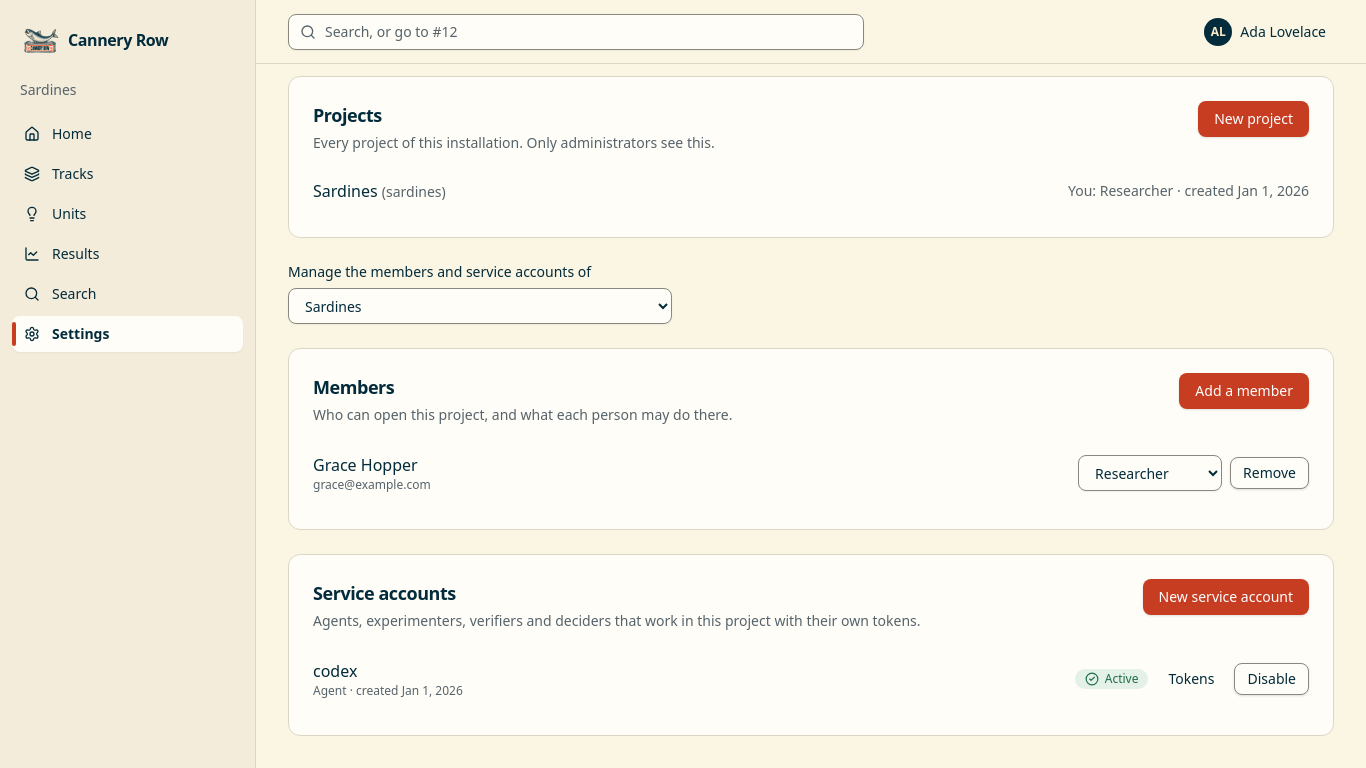
Test: a new token's secret › never stays in the query client, for a service account's token
(page scrolled)
Click the button "Tokens".
click(1192, 679)  # box [1156,663,1226,695]
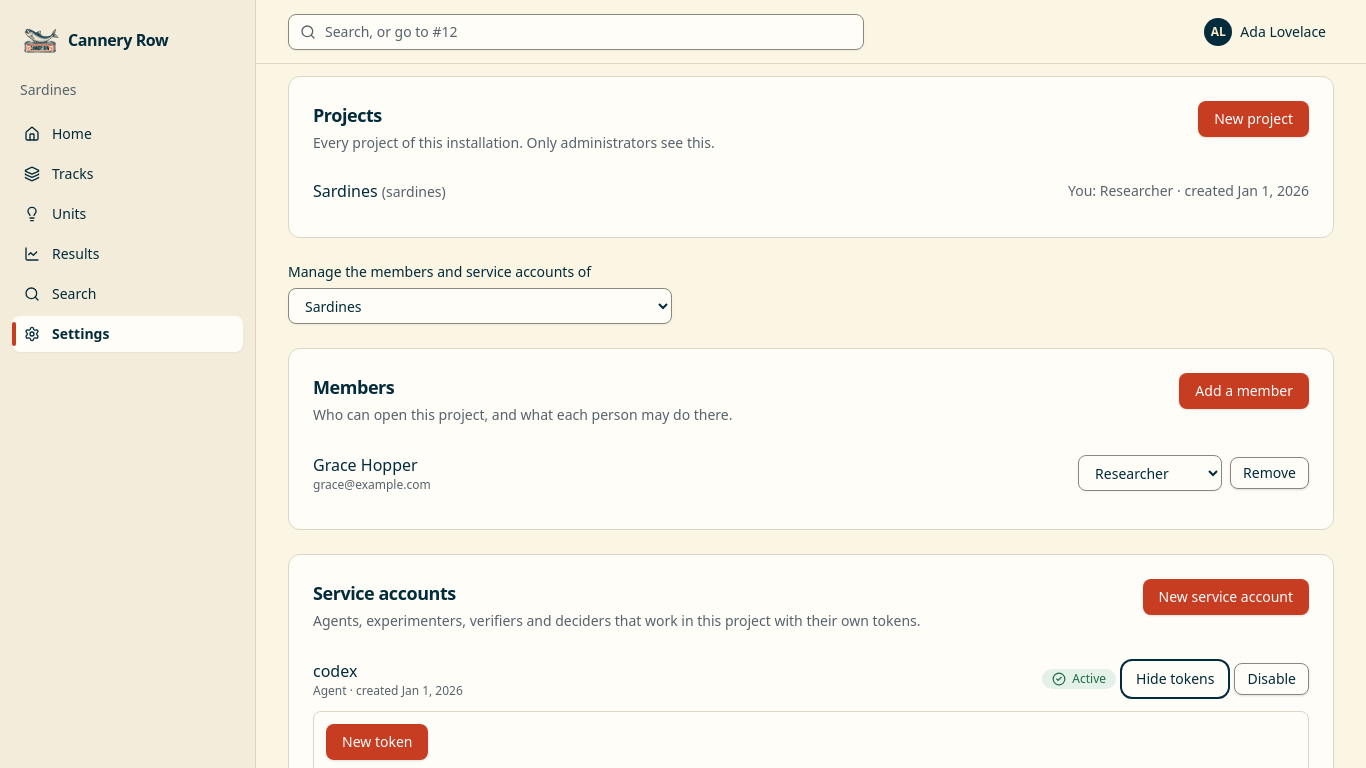
Click the button "New token".
click(377, 742)  # box [326,724,428,760]
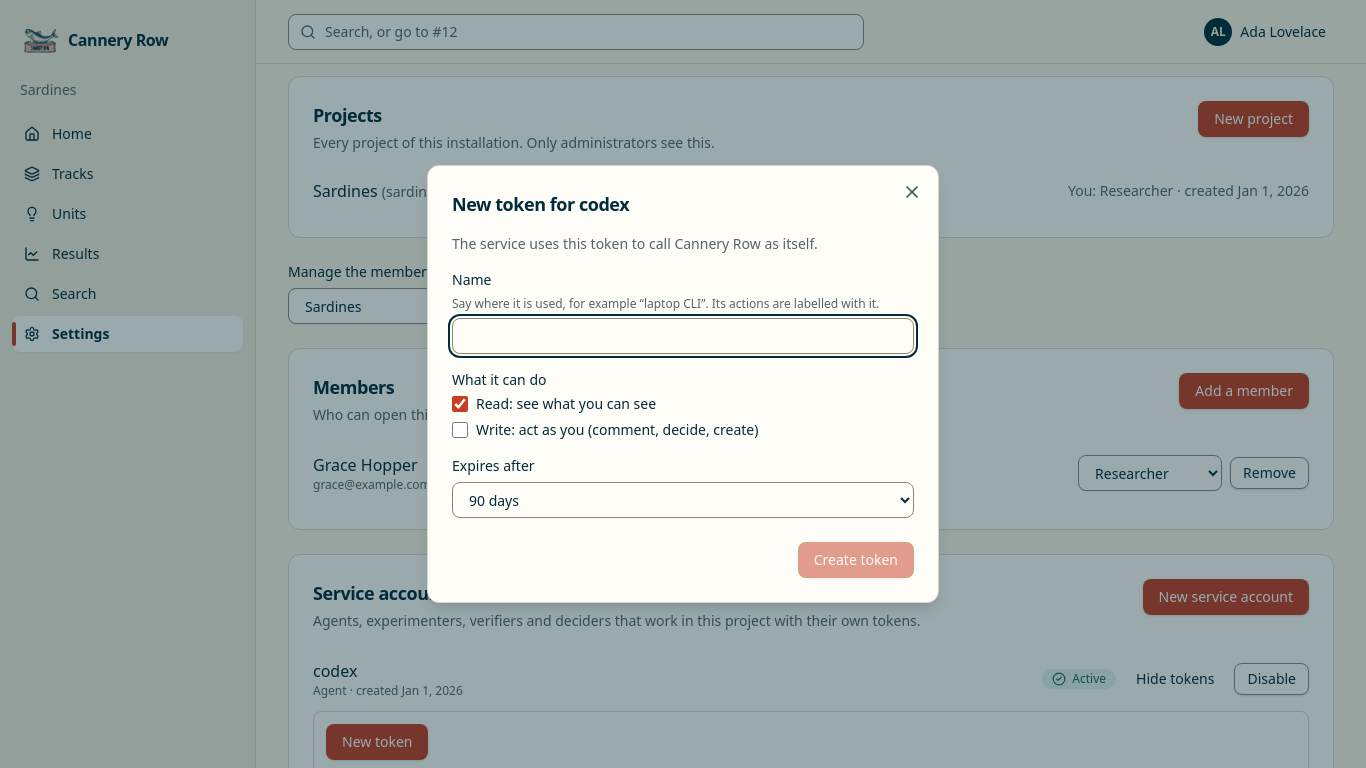
Type "runner" into the field labelled "Name".
click(683, 336); type("runner")  # box [452,318,914,354]
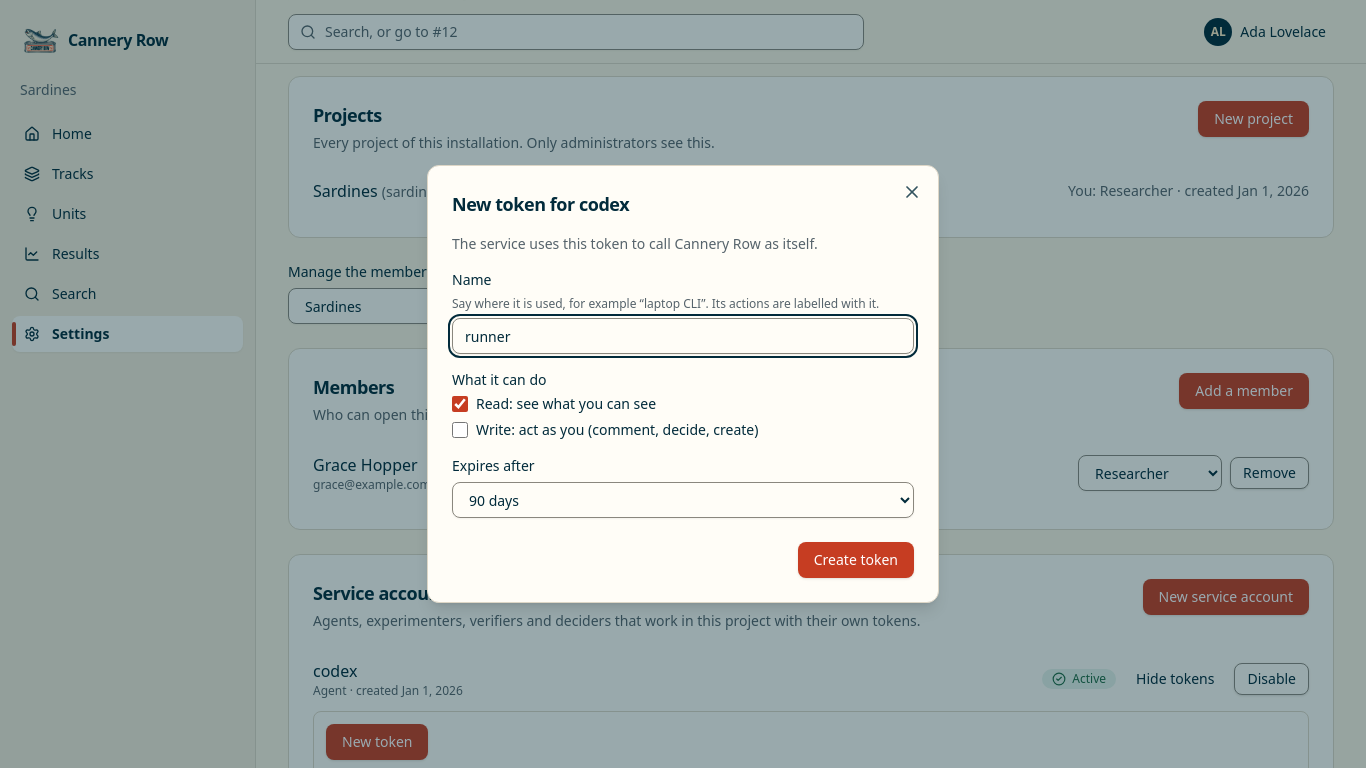
Click the button "Create token".
click(856, 560)  # box [798,542,914,578]
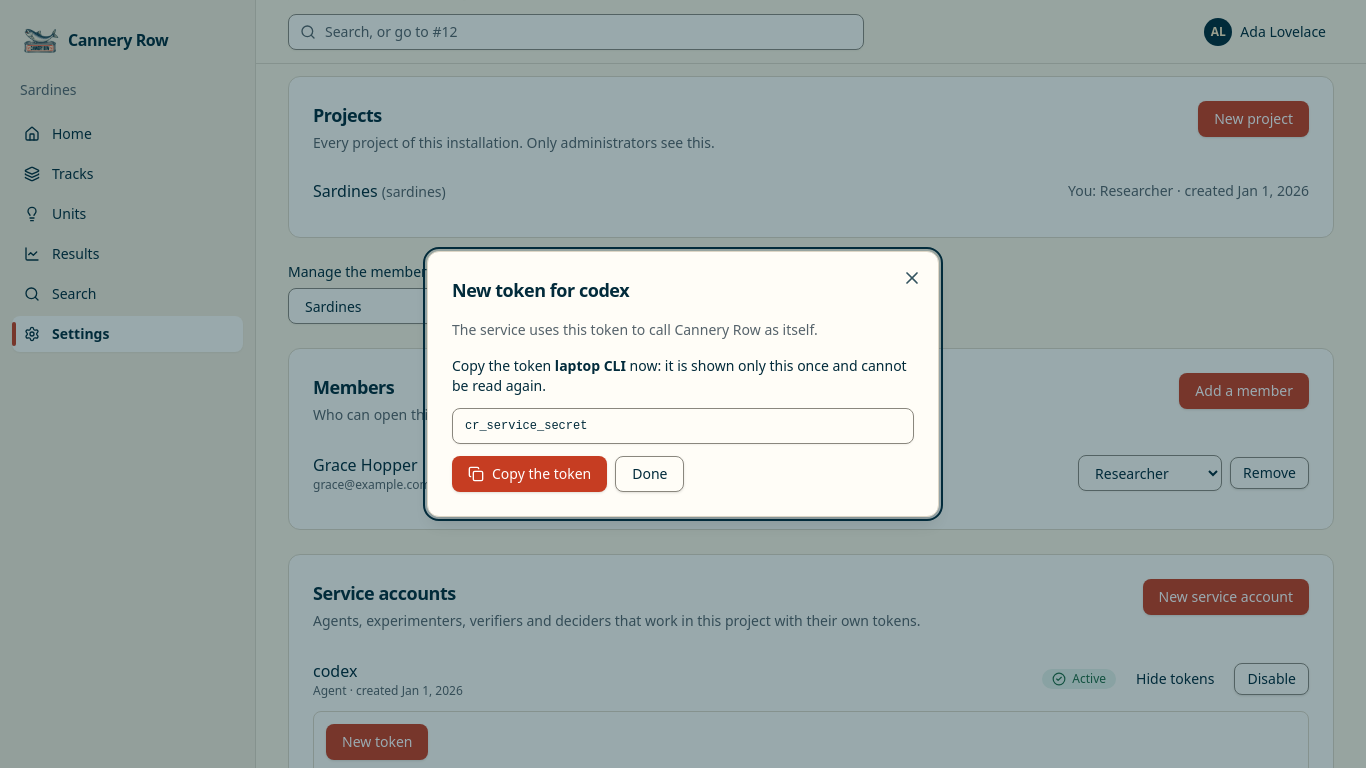
Check: the field showing "cr_service_secret" is shown, box [452,408,914,444]
Press Escape
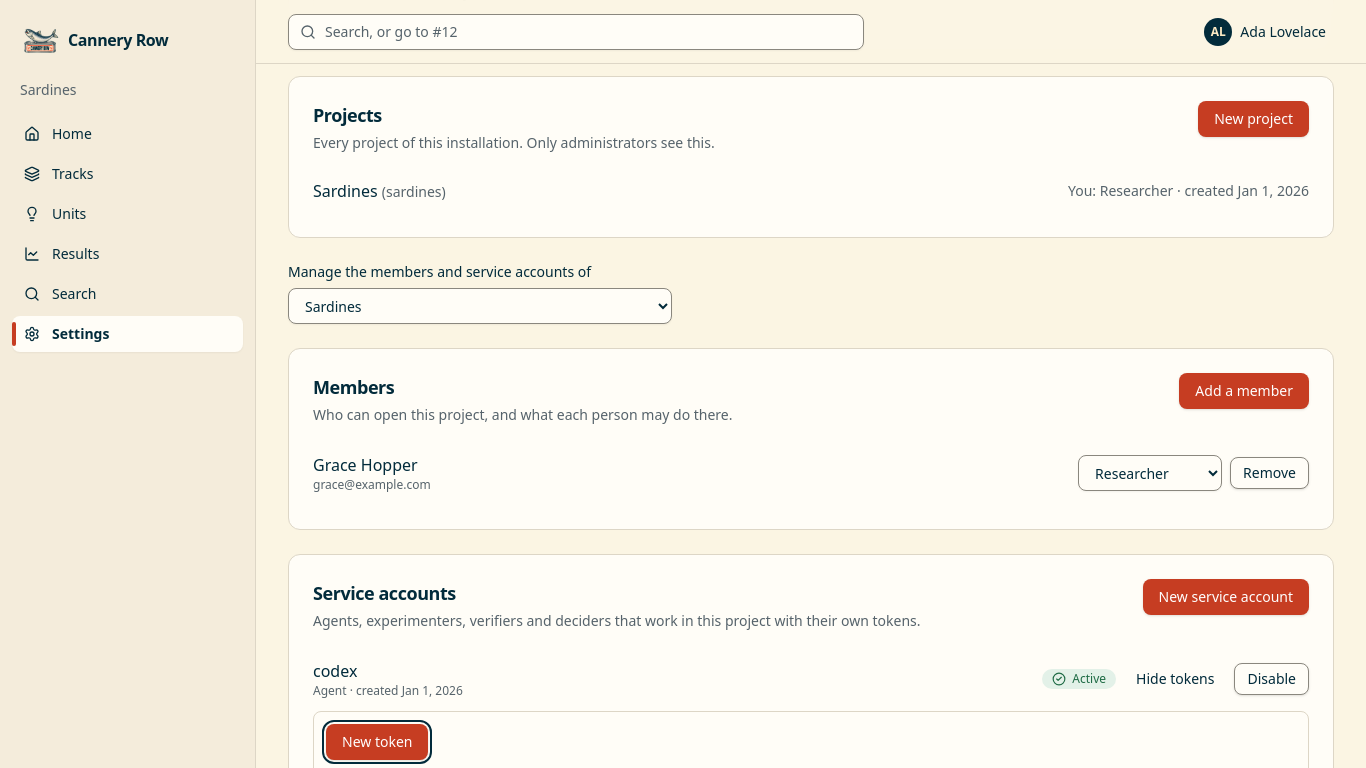
Check: the field showing "cr_service_secret" is not shown
Check: the dialog is gone
